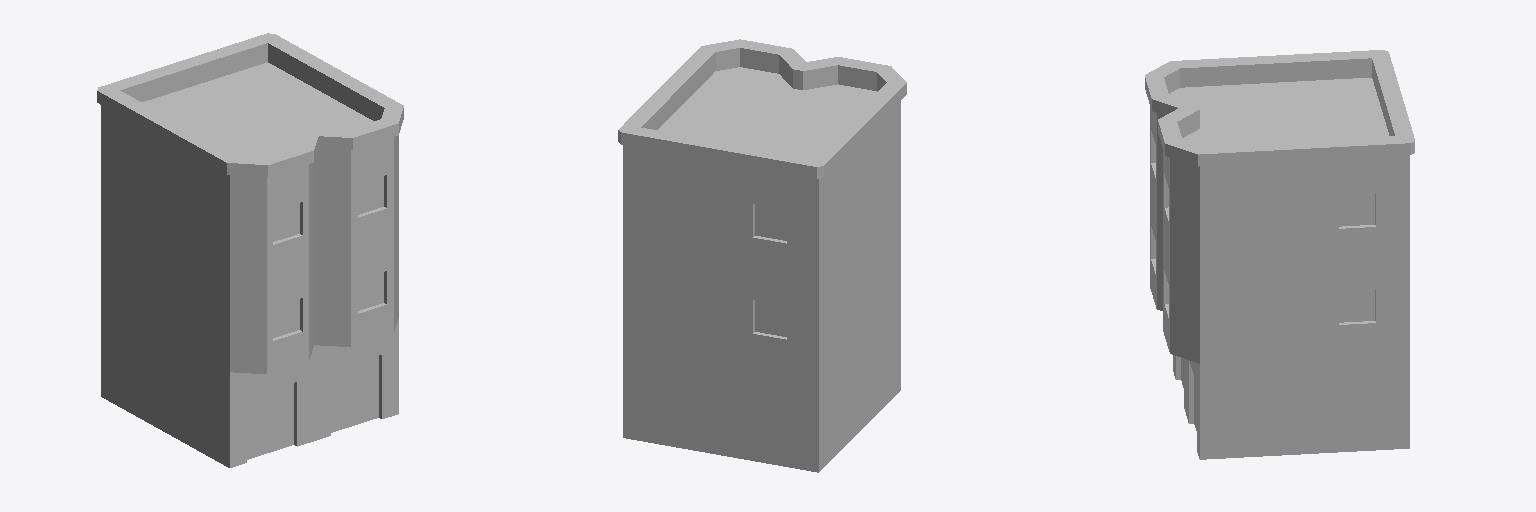
The model's file is variant_26.obj.
3 views of the same model, side by side, from view 1: azimuth 30°, elevation 25°; view 2: azimuth 150°, elevation 25°; view 3: azimuth 270°, elevation 25° (orthographic).
Visible parts, largest first — view 1: small_buildingA; view 2: small_buildingA; view 3: small_buildingA.
Part boxes in pixels (x1,y1,x2,y2): small_buildingA: (97, 33, 403, 467); small_buildingA: (618, 39, 906, 472); small_buildingA: (1145, 50, 1414, 459).
Bounding box in the file's own units: 0.9347 × 1.28 × 1.02.